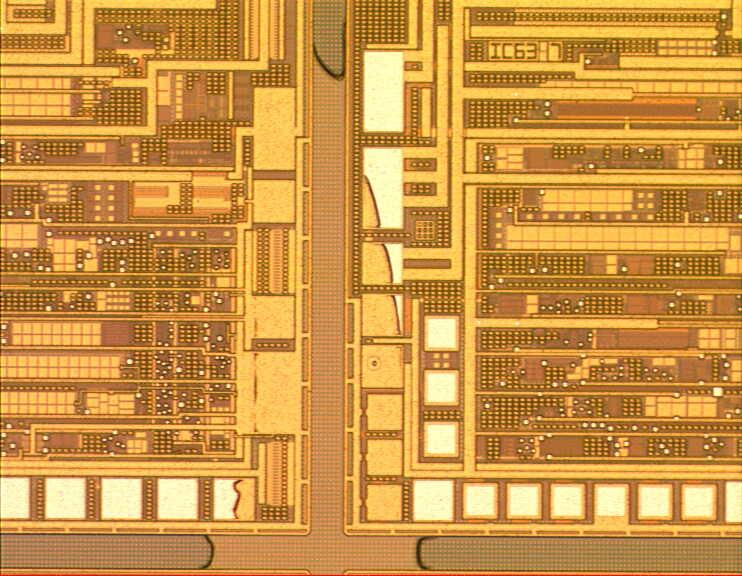COATING BAD: (177, 17, 450, 573)
